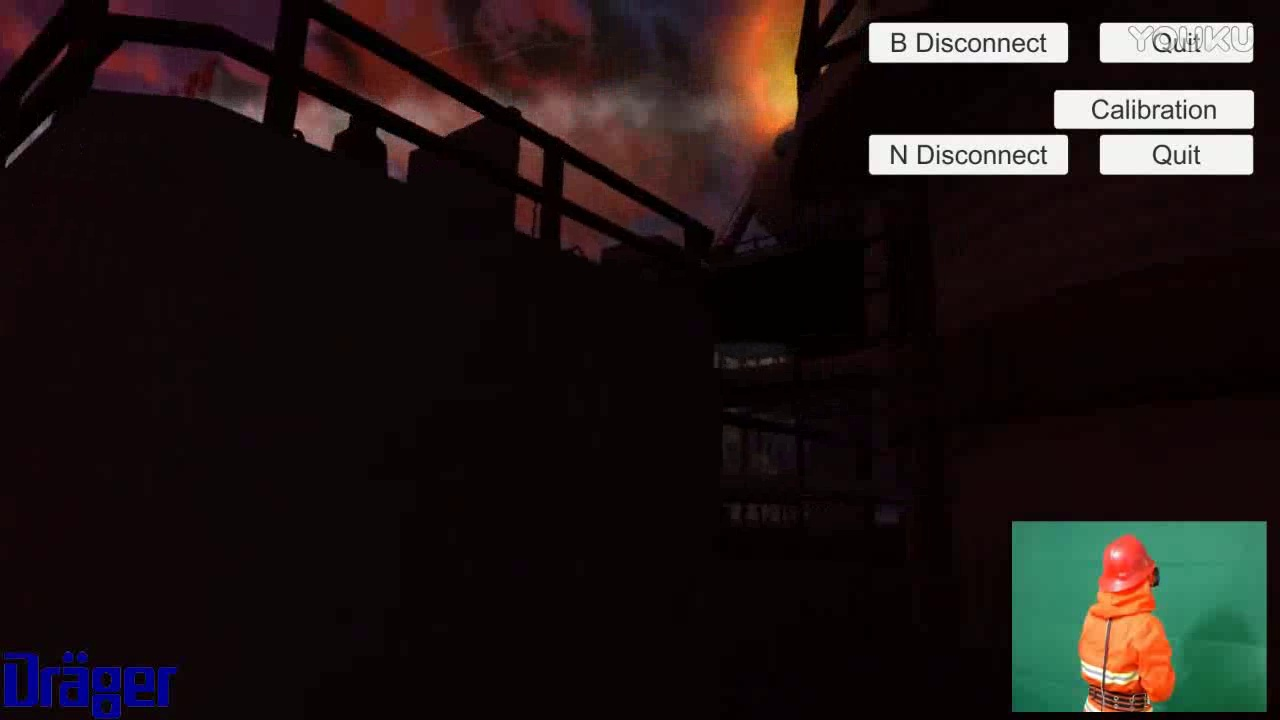fire: (732, 8, 820, 148)
